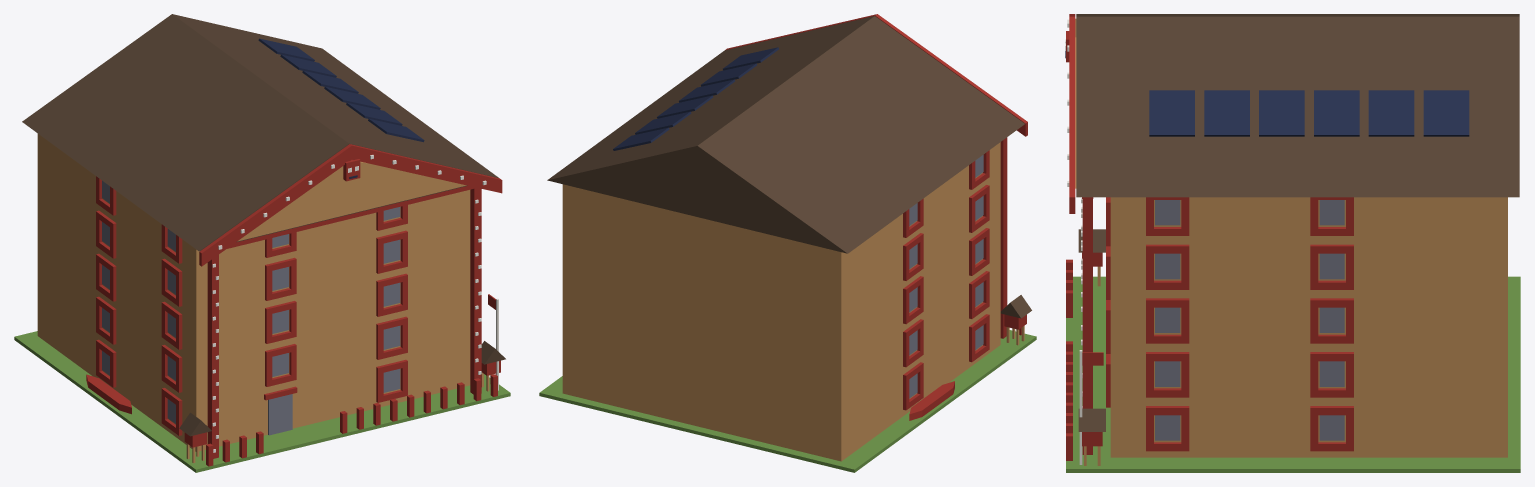
The model's file is house-2x2-5f-whare-a-solar.glb.
3 views of the same model, side by side, from view 1: azimuth 30°, elevation 25°; view 2: azimuth 150°, elevation 25°; view 3: azimuth 270°, elevation 25° (orthographic). The views are drawn at different scales.
Parts seen in each view (by area): view 1: house-2x2-5f-whare-a-solar; view 2: house-2x2-5f-whare-a-solar; view 3: house-2x2-5f-whare-a-solar.
Boxes of the visible parts, <box> form: house-2x2-5f-whare-a-solar: <box>14,14,510,472</box>; house-2x2-5f-whare-a-solar: <box>539,14,1036,472</box>; house-2x2-5f-whare-a-solar: <box>1065,14,1520,472</box>.
Size of the model in its own units: 2 by 1.74 by 1.99.
Materials: 1 (1 with a texture image).
